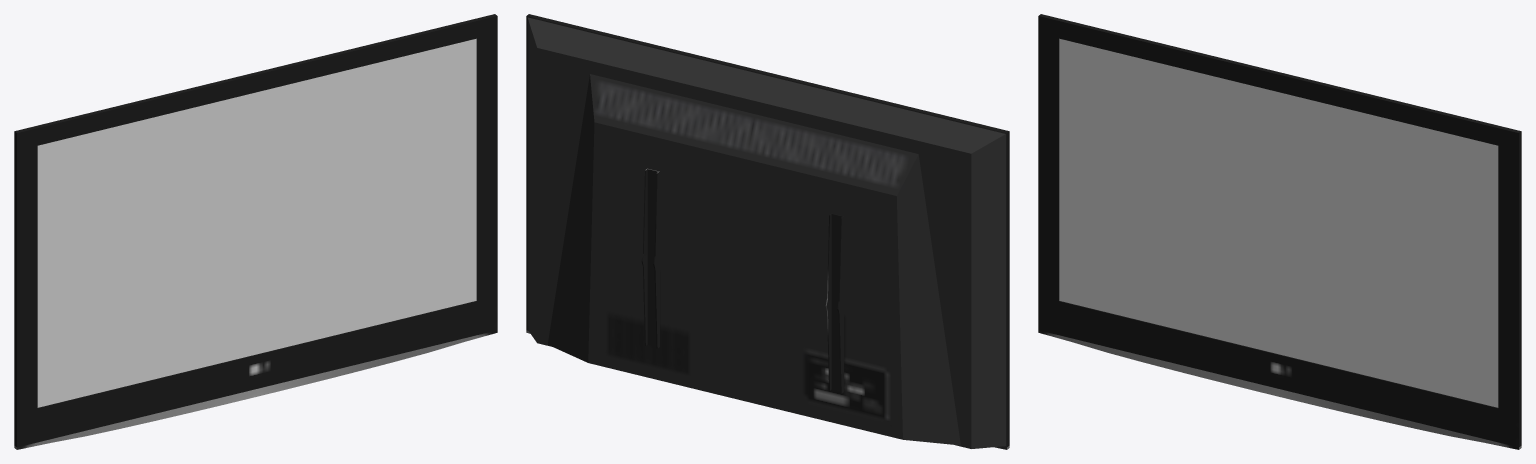
File: FlatTV.fbx
3 renders of one model, left to right at view 1: azimuth 30°, elevation 25°; view 2: azimuth 150°, elevation 25°; view 3: azimuth 330°, elevation 25°, orthographic.
Parts seen in each view (by area): view 1: Flat_TV; view 2: Flat_TV; view 3: Flat_TV.
Boxes of the visible parts, <box> form: Flat_TV: <box>14,14,497,449</box>; Flat_TV: <box>526,14,1009,449</box>; Flat_TV: <box>1038,14,1521,449</box>.
Bounding box in the file's own units: 203 × 130 × 21.54.
Materials: 2 (1 with a texture image).
